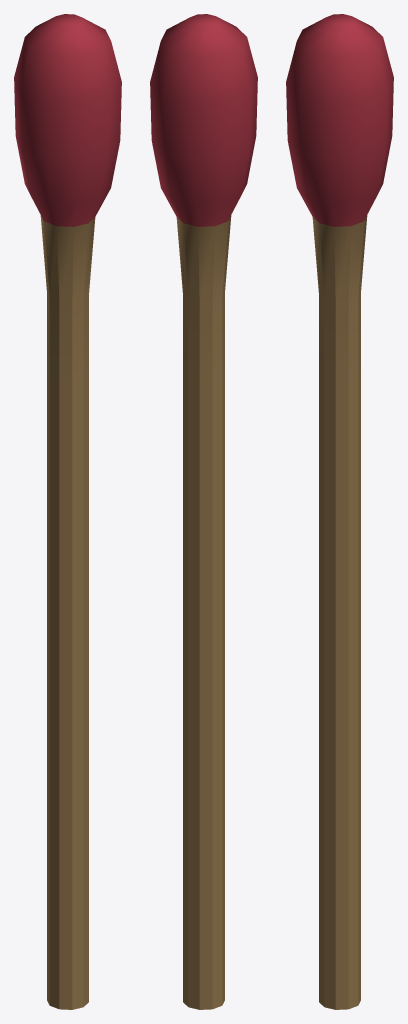
The model's file is matchstick.fbx.
3 renders of one model, left to right at view 1: azimuth 30°, elevation 25°; view 2: azimuth 150°, elevation 25°; view 3: azimuth 330°, elevation 25°, orthographic.
Visible parts, largest first — view 1: matchstick; view 2: matchstick; view 3: matchstick.
Boxes of the visible parts, bbox=[...] form: matchstick: bbox=[14, 14, 121, 1009]; matchstick: bbox=[150, 14, 257, 1009]; matchstick: bbox=[286, 14, 393, 1009].
Bounding box in the file's own units: 0.5005 × 4.99 × 0.476.
